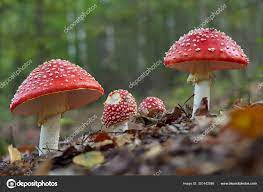Amanita muscaria: (6, 52, 104, 163), (162, 16, 249, 121), (105, 80, 135, 143), (138, 92, 163, 126)
